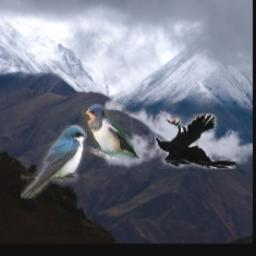Crow: (156, 114, 237, 169)
Swallow: (22, 126, 88, 200), (83, 104, 143, 160)
